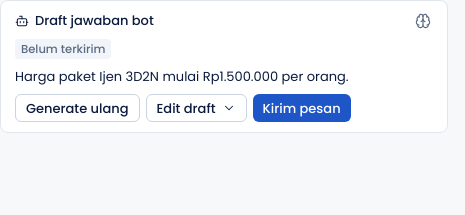
MessageDraftCard › edit draft: Edit draft membuka pilihan edit manual dan edit dengan prompt
This screenshot has width=465, height=215.
Step 1. Click the button "Edit draft" → [196, 108], box x1=146 y1=94 x2=246 y2=122
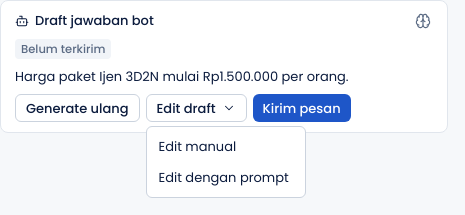
Now the menu item "Edit manual" is shown, box x1=150 y1=131 x2=300 y2=162
Now the menu item "Edit dengan prompt" is shown, box x1=150 y1=162 x2=300 y2=193
